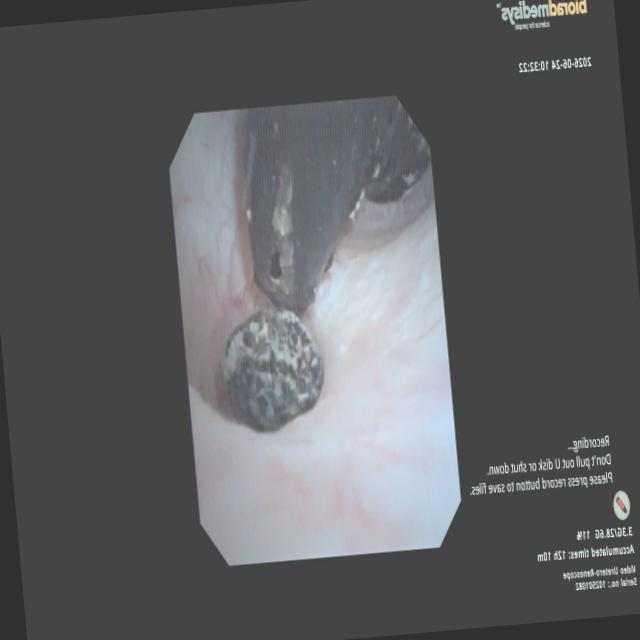stone-new: (244, 95, 430, 310), (223, 309, 323, 430)
